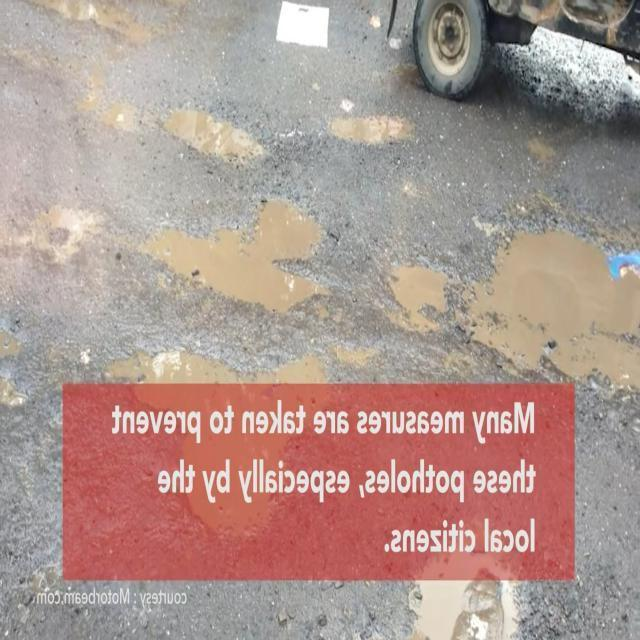Pothole: (395, 228, 631, 396), (140, 190, 331, 315), (167, 106, 269, 169), (327, 105, 409, 151)
